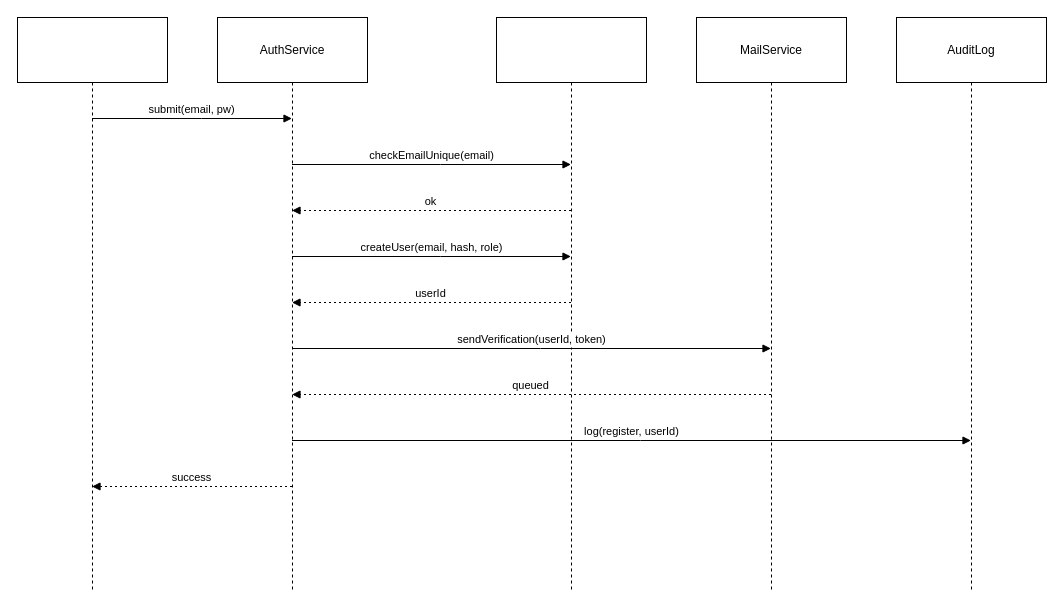
Some shapes in this 1064 by 609 pixel diagram are drawn without their labels. The shapes that lost their labels are listed below. From the top down, each one's box as (x1, y1, x2, y2) in pixels, then its label:
(16, 16, 168, 592): UserUI
(496, 16, 646, 592): UserRepository
